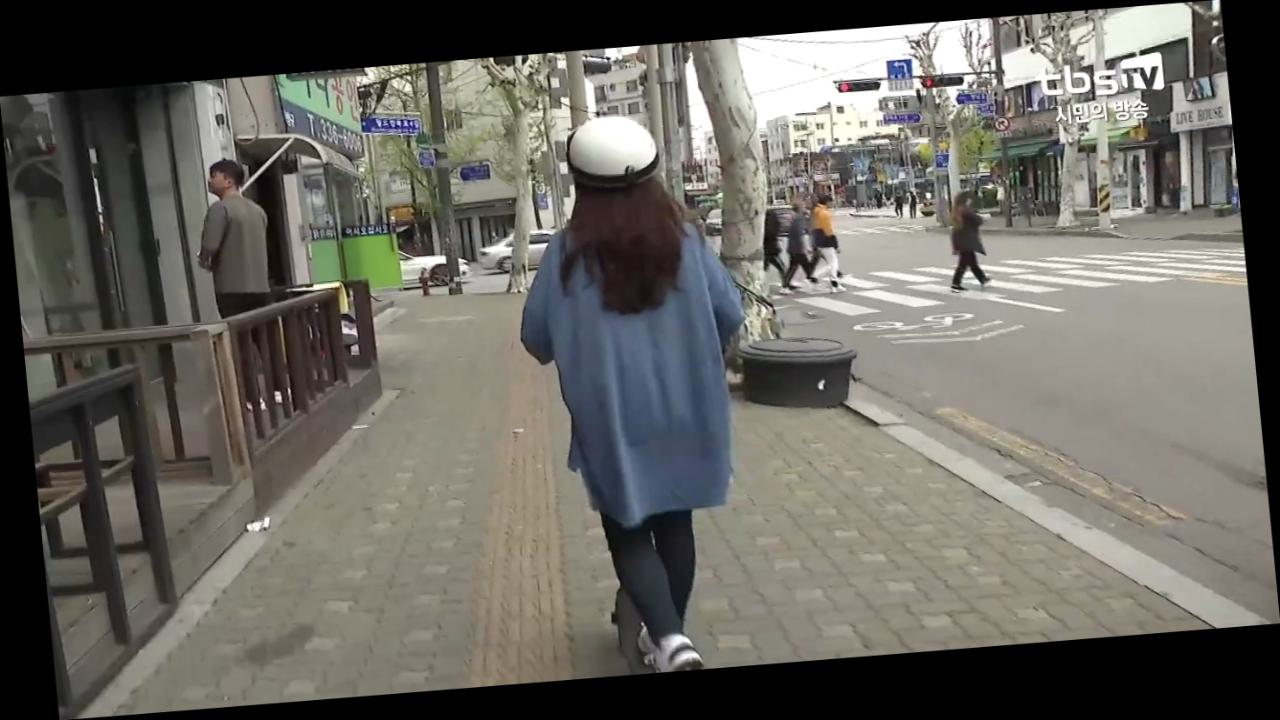helmet: (496, 102, 784, 681)
